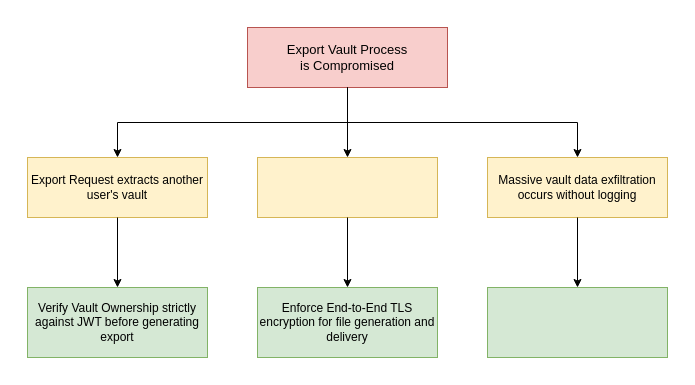
This 695x385 diagram has some shape labels left out. The shapes that lost their labels are listed below. From the top down, each one's centre as x and y in pixels, then its label:
(347,187): Exported file intercepted and modified
(577,322): Log all vault export events securely with user and device context
